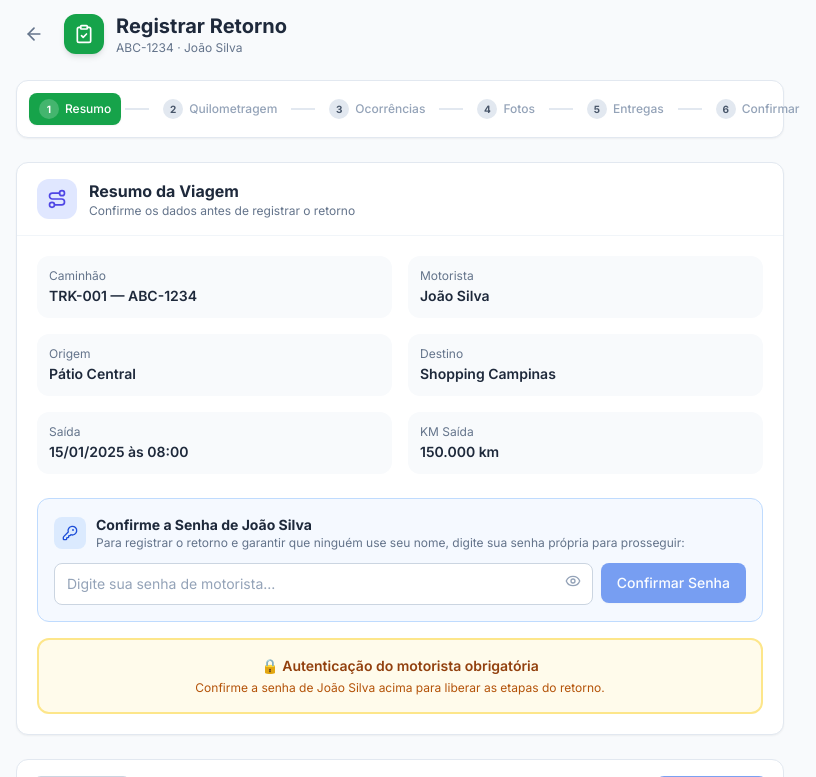
Test: TripReturnPage › prompts for password when driver already has password configured, rejects wrong password and accepts valid password
Expected: the heading "Resumo da Viagem" is shown, [89,181,239,201]
Expected: the text "Confirme a Senha de João Silva" is shown, [96,516,312,533]
In the password field with placeholder "Digite sua senha de motorista...": (323, 584) [54,563,593,605], type "senhaerrada"
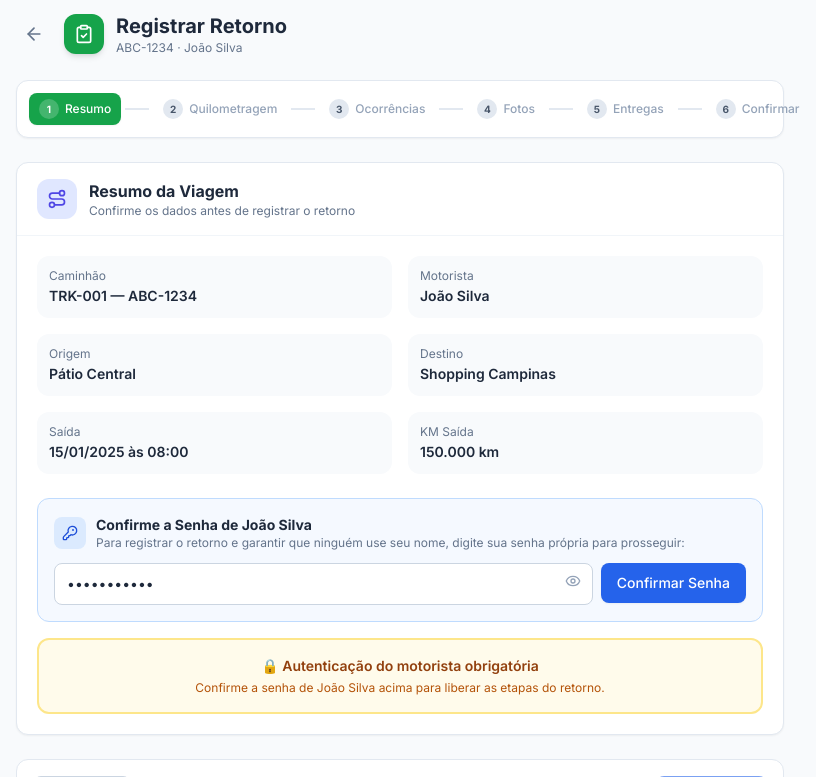
Click the button "Confirmar Senha": (673, 583) [601,563,746,603]
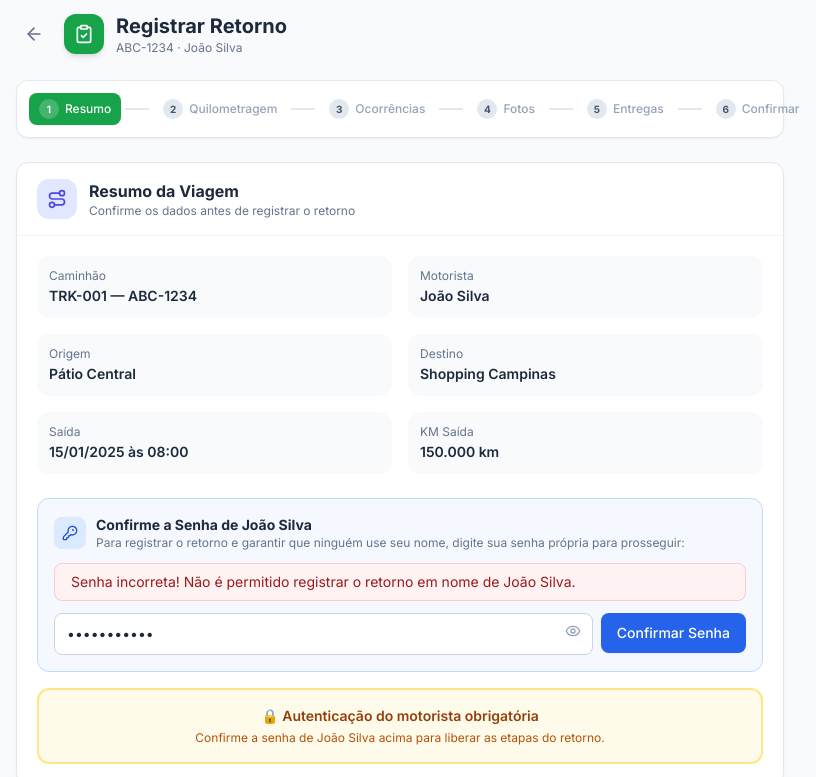
Result: the text "Senha incorreta" is shown at [71,573,576,590]
Note: Now enter right password
In the password field with placeholder "Digite sua senha de motorista...": (323, 634) [54,613,593,655], type "segredo123"
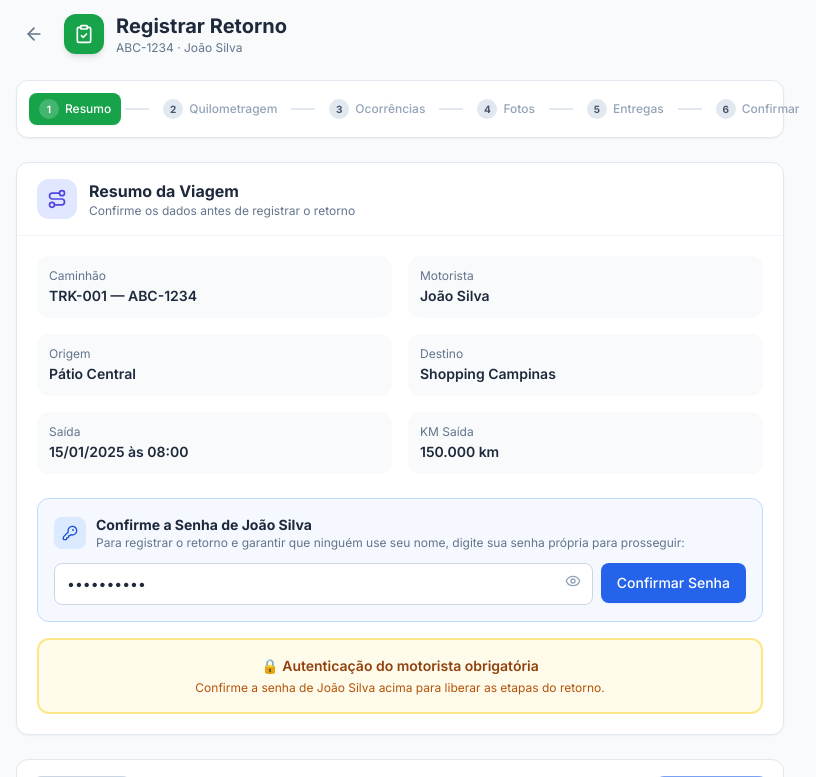
Click the button "Confirmar Senha": (673, 583) [601,563,746,603]
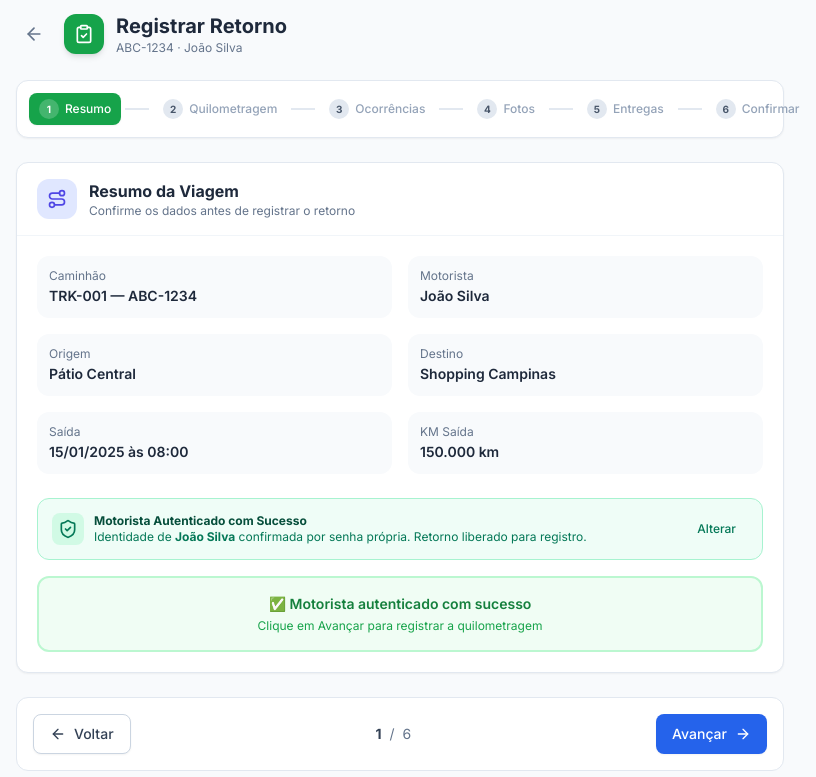
Result: the text "Motorista Autenticado com Sucesso" is shown at [94,513,307,528]
Result: the button "Avançar" is enabled at [656,714,767,754]
